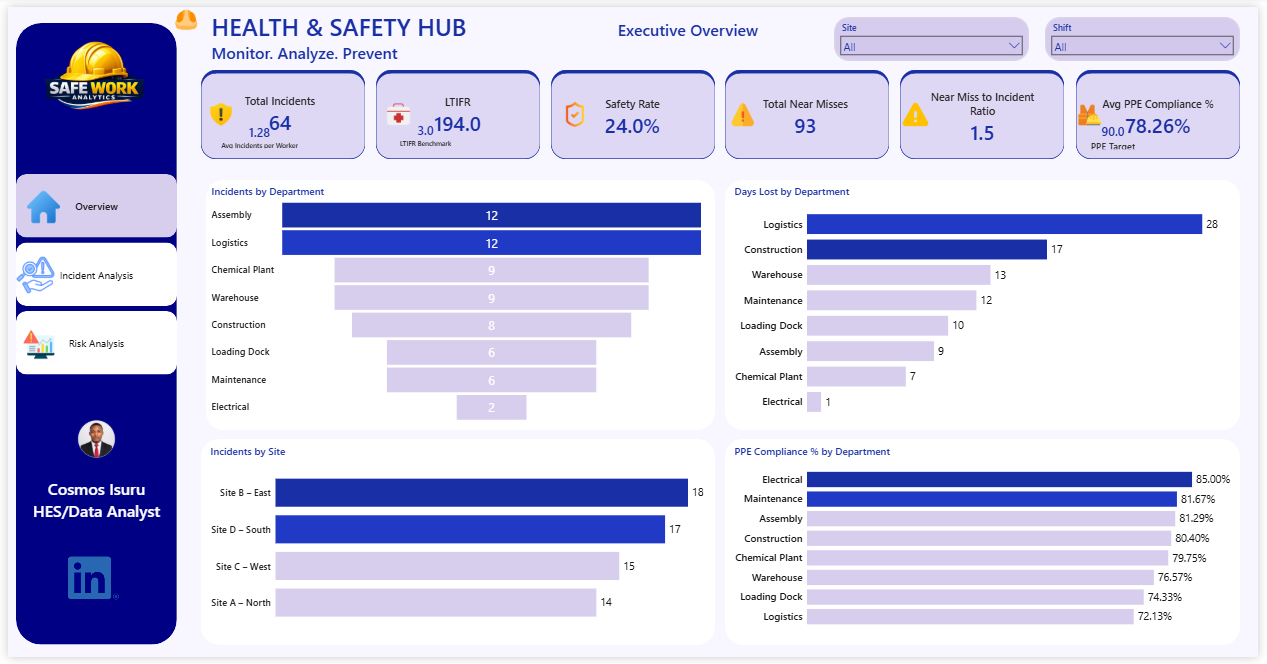

The dashboard page shown, as its layout file describes it:
{"tool":"powerbi","page":{"name":"Overview","canvas":[2500,1300],"ordinal":0},"visuals":[{"type":"shape","box":[15,31.7,321.7,1243.3],"z":0},{"type":"textbox","box":[402,0,700,126],"z":1000},{"type":"image","box":[15,0,315,291.7],"z":2000},{"type":"shape","box":[386.7,126.7,328.3,178.3],"z":3000,"group":"g1"},{"type":"group","id":"g1","title":"Group 1","box":[386.7,126.7,328.3,178.3],"z":3000},{"type":"shape","box":[735,126.7,328.3,178.3],"z":3000,"group":"g4"},{"type":"shape","box":[1085,126.7,328.3,178.3],"z":3000,"group":"g5"},{"type":"group","id":"g2","title":"Group 2","box":[1433.3,126.7,328.3,178.3],"z":4000},{"type":"shape","box":[386.7,133.4,328.3,171.7],"z":4000,"group":"g1"},{"type":"shape","box":[735,133.4,328.3,171.7],"z":4000,"group":"g4"},{"type":"shape","box":[1085,133.4,328.3,171.7],"z":4000,"group":"g5"},{"type":"shape","box":[2136,126,328.3,178.3],"z":5000,"group":"g6"},{"type":"shape","box":[1433.3,126.7,328.3,178.3],"z":5000,"group":"g2"},{"type":"shape","box":[1783.3,126.7,328.3,178.3],"z":5000,"group":"g3"},{"type":"group","id":"g3","title":"Group 2","box":[1783.3,126.7,328.3,178.3],"z":5000},{"type":"group","id":"g4","title":"Group 1","box":[735,126.7,328.3,178.3],"z":6000},{"type":"shape","box":[2136,132.7,328.3,171.7],"z":6000,"group":"g6"},{"type":"shape","box":[1433.3,133.4,328.3,171.7],"z":6000,"group":"g2"},{"type":"shape","box":[1783.3,133.4,328.3,171.7],"z":6000,"group":"g3"},{"type":"group","id":"g5","title":"Group 1","box":[1085,126.7,328.3,178.3],"z":7000},{"type":"shape","box":[396,346,1018,500],"z":8000},{"type":"shape","box":[386,864,1028,412],"z":9000},{"type":"shape","box":[1434,864,1030,412],"z":10000},{"type":"shape","box":[1434,346,1030,500],"z":11000},{"type":"group","id":"g6","title":"Group 2","box":[2136,126,328,180],"z":12000},{"type":"slicer","fields":{"Values":["Worker Safety Dataset.Shift"]},"box":[2074,20,390,88],"z":13000},{"type":"slicer","fields":{"Values":["Worker Safety Dataset.Site"]},"box":[1652,20,390,88],"z":14000},{"type":"cardVisual","fields":{"Data":["OHS Metrics Summary.Total Incidents"]},"box":[396,132,296,164],"z":15000},{"type":"cardVisual","fields":{"Data":["OHS Metrics Summary.LTIFR"]},"box":[752,136,294,160],"z":16000},{"type":"cardVisual","fields":{"Data":["OHS Metrics Summary.Safety Rate"]},"box":[1102,146,294,146],"z":17000},{"type":"cardVisual","fields":{"Data":["OHS Metrics Summary.Avg PPE Compliance %"]},"box":[2150,146,300,146],"z":18000},{"type":"cardVisual","fields":{"Data":["OHS Metrics Summary.Avg Incidents per Worker"]},"box":[396,216,214,84],"z":19000},{"type":"cardVisual","fields":{"Data":["OHS Metrics Summary.Near Miss to Incident Ratio"]},"box":[1804,146,290,146],"z":20000},{"type":"cardVisual","fields":{"Data":["OHS Metrics Summary.Total Near Misses"]},"box":[1448,146,294,146],"z":21000},{"type":"cardVisual","fields":{"Data":["OHS Metrics Summary.PPE Target"]},"box":[2136,220,148,82],"z":22000},{"type":"image","box":[312.9,0,88.6,51.4],"z":23000},{"type":"image","box":[395.7,188.6,60,54.3],"z":24000},{"type":"image","box":[741.4,188.6,78.6,54.3],"z":25000},{"type":"image","box":[1782.9,188.6,65.7,54.3],"z":26000},{"type":"image","box":[1101.4,188.6,64.3,54.3],"z":27000},{"type":"image","box":[2136.7,188.3,55,55],"z":28000},{"type":"image","box":[1433.3,188.3,71.7,55],"z":29000},{"type":"image","box":[16,792,322,144],"z":30000},{"type":"image","box":[120,1086,102,112],"z":31000},{"type":"textbox","box":[16,936,322,108],"z":32000},{"type":"funnel","title":"Incidents by Department","fields":{"Category":["Worker Safety Dataset.Department"],"Y":["OHS Metrics Summary.Total Incidents"]},"box":[402,354,994,482],"z":33000},{"type":"barChart","title":"Days Lost by Department","fields":{"Category":["Worker Safety Dataset.Department"],"Y":["OHS Metrics Summary.Total Days Lost"]},"box":[1448,354,1002,482],"z":34000},{"type":"cardVisual","fields":{"Data":["OHS Metrics Summary.LTIFR Benchmark"]},"box":[736,214,198,82],"z":35000},{"type":"clusteredBarChart","title":"Incidents by Site","fields":{"Category":["Worker Safety Dataset.Site"],"Y":["OHS Metrics Summary.Total Incidents"]},"box":[400,874,996,382],"z":36000},{"type":"barChart","title":"PPE Compliance % by Department","fields":{"Category":["Worker Safety Dataset.Department"],"Y":["OHS Metrics Summary.Avg PPE Compliance %"]},"box":[1448,874,1002,382],"z":37000},{"type":"group","id":"g7","title":"Group 3","box":[16,334,322,402],"z":38000},{"type":"pageNavigator","box":[16,334,322,402],"z":38500,"group":"g7"},{"type":"image","box":[16,474,78,124],"z":39000},{"type":"image","box":[38,342,66,116],"z":39001,"group":"g7"},{"type":"image","box":[30,614,64,122],"z":40000},{"type":"textbox","box":[1102,0,516,126],"z":40001}]}

Visuals, with their boxes in screenshot pixels (x1, y1, x2, y2), scaled from the page's 2500x1300 canvas onto the 1267x664 screenshot:
shape: (8,16,171,651)
textbox: (204,0,558,64)
image: (8,0,167,149)
shape: (196,65,362,156)
"Group 1" group: (196,65,362,156)
shape: (372,65,539,156)
shape: (550,65,716,156)
"Group 2" group: (726,65,893,156)
shape: (196,68,362,156)
shape: (372,68,539,156)
shape: (550,68,716,156)
shape: (1083,64,1249,155)
shape: (726,65,893,156)
shape: (904,65,1070,156)
"Group 2" group: (904,65,1070,156)
"Group 1" group: (372,65,539,156)
shape: (1083,68,1249,155)
shape: (726,68,893,156)
shape: (904,68,1070,156)
"Group 1" group: (550,65,716,156)
shape: (201,177,717,432)
shape: (196,441,717,652)
shape: (727,441,1249,652)
shape: (727,177,1249,432)
"Group 2" group: (1083,64,1249,156)
slicer - Worker Safety Dataset.Shift: (1051,10,1249,55)
slicer - Worker Safety Dataset.Site: (837,10,1035,55)
cardVisual - OHS Metrics Summary.Total Incidents: (201,67,351,151)
cardVisual - OHS Metrics Summary.LTIFR: (381,69,530,151)
cardVisual - OHS Metrics Summary.Safety Rate: (558,75,707,149)
cardVisual - OHS Metrics Summary.Avg PPE Compliance %: (1090,75,1242,149)
cardVisual - OHS Metrics Summary.Avg Incidents per Worker: (201,110,309,153)
cardVisual - OHS Metrics Summary.Near Miss to Incident Ratio: (914,75,1061,149)
cardVisual - OHS Metrics Summary.Total Near Misses: (734,75,883,149)
cardVisual - OHS Metrics Summary.PPE Target: (1083,112,1158,154)
image: (159,0,203,26)
image: (201,96,231,124)
image: (376,96,416,124)
image: (904,96,937,124)
image: (558,96,591,124)
image: (1083,96,1111,124)
image: (726,96,763,124)
image: (8,405,171,478)
image: (61,555,113,612)
textbox: (8,478,171,533)
"Incidents by Department" funnel: (204,181,707,427)
"Days Lost by Department" barChart: (734,181,1242,427)
cardVisual - OHS Metrics Summary.LTIFR Benchmark: (373,109,473,151)
"Incidents by Site" clusteredBarChart: (203,446,707,642)
"PPE Compliance % by Department" barChart: (734,446,1242,642)
"Group 3" group: (8,171,171,376)
pageNavigator: (8,171,171,376)
image: (8,242,48,305)
image: (19,175,53,234)
image: (15,314,48,376)
textbox: (558,0,820,64)
